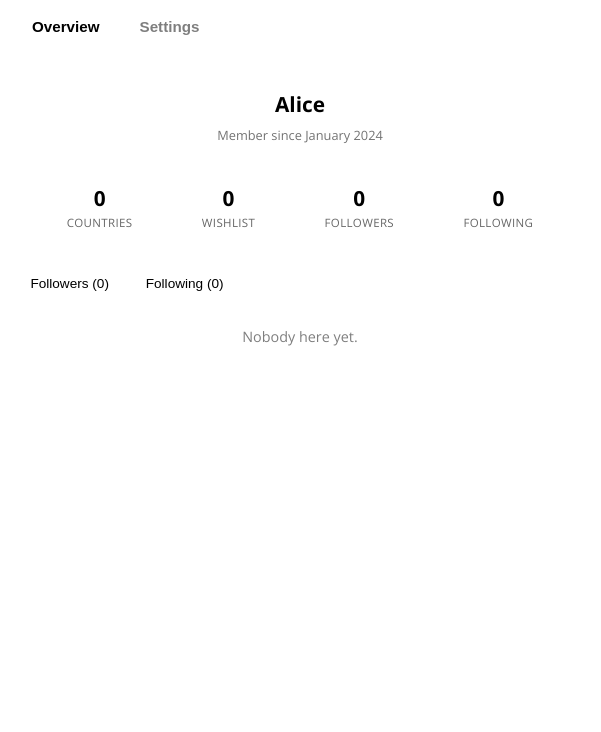
Scenario: Profile page › switches to settings view when Settings tab is clicked
What coordinates should you click on to do the following:
click the button "Settings"
I would click on:
 (169, 27)
Its box is [124,12,215,42].
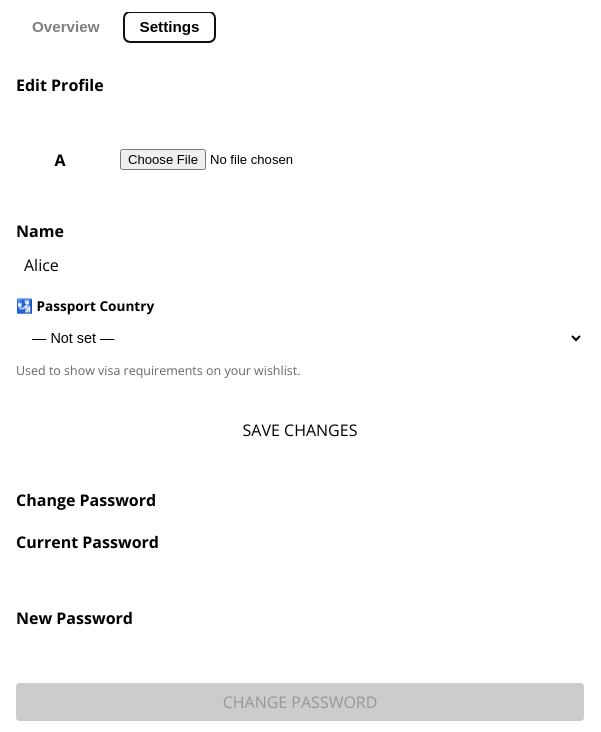
Expected: the heading "Edit Profile" is shown, [16,74,104,96]
